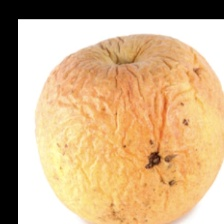apple: (0, 35, 194, 171)
